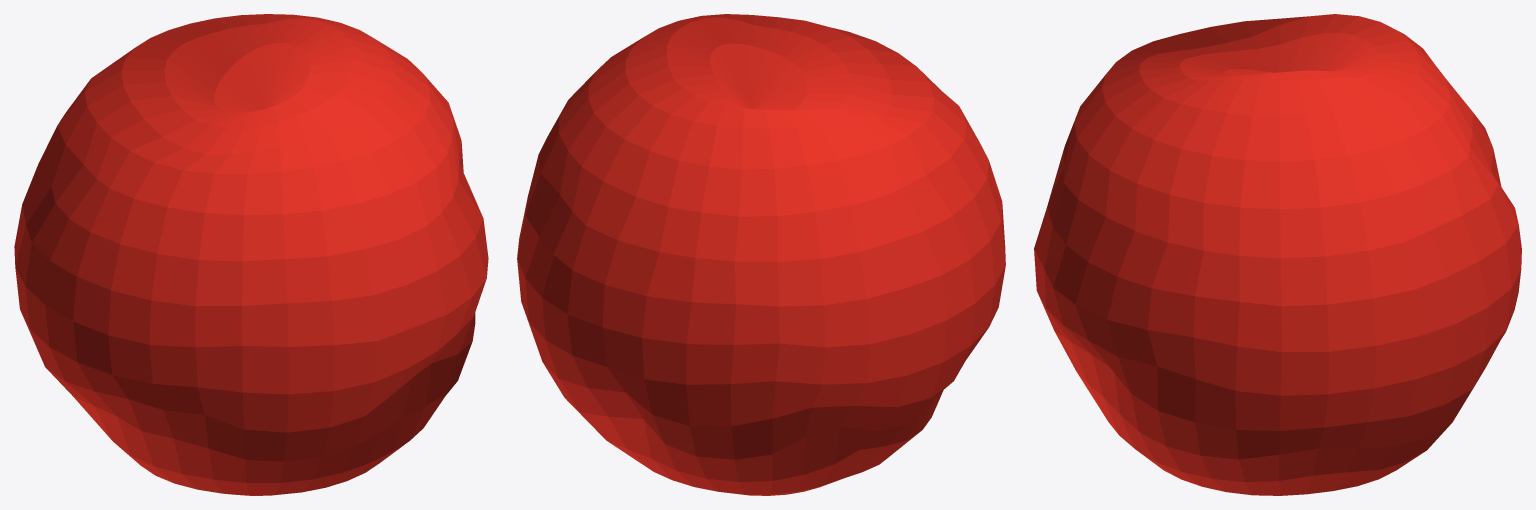
The model's file is manzanasola.gltf.
The picture shows the model from 3 angles, left to right: view 1: azimuth 30°, elevation 25°; view 2: azimuth 150°, elevation 25°; view 3: azimuth 270°, elevation 25°; orthographic projection. The views are drawn at different scales.
Parts seen in each view (by area): view 1: Sphere; view 2: Sphere; view 3: Sphere.
Part boxes in pixels (box(x1,y1,x2,y2)): Sphere: box(14, 14, 488, 495); Sphere: box(517, 14, 1005, 495); Sphere: box(1034, 14, 1521, 495).
Size of the model in its own units: 1.97 by 1.83 by 1.93.
